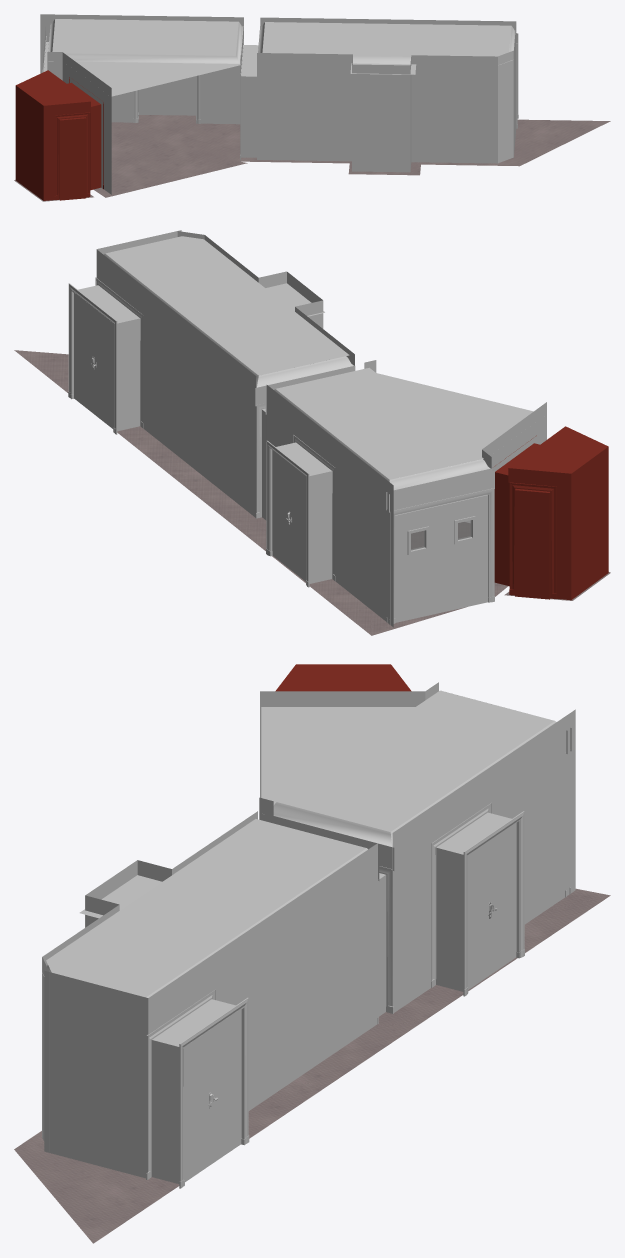
File: HallwayRight_Scene4.fbx
3 renders of one model, top to bottom at view 1: azimuth 30°, elevation 25°; view 2: azimuth 150°, elevation 25°; view 3: azimuth 270°, elevation 25°, orthographic. The views are drawn at different scales.
Visible parts, largest first — view 1: polySurface1608, polySurface1598, polySurface1607; view 2: polySurface1608, polySurface1598, polySurface1607; view 3: polySurface1608, polySurface1598, polySurface1607.
Part boxes in pixels (left/top/right/bottom): polySurface1608: left=14, top=14, right=610, bottom=201; polySurface1598: left=42, top=33, right=518, bottom=159; polySurface1607: left=48, top=19, right=515, bottom=64; polySurface1608: left=14, top=230, right=610, bottom=635; polySurface1598: left=68, top=277, right=494, bottom=624; polySurface1607: left=104, top=253, right=490, bottom=490; polySurface1608: left=14, top=664, right=610, bottom=1243; polySurface1598: left=146, top=750, right=570, bottom=1188; polySurface1607: left=42, top=721, right=556, bottom=997.
Bounding box in the file's own units: 1438 × 289 × 864.
